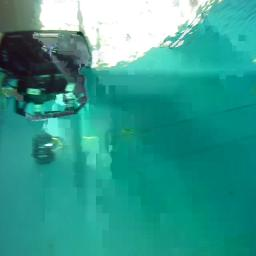Side: (0, 30, 92, 120)
